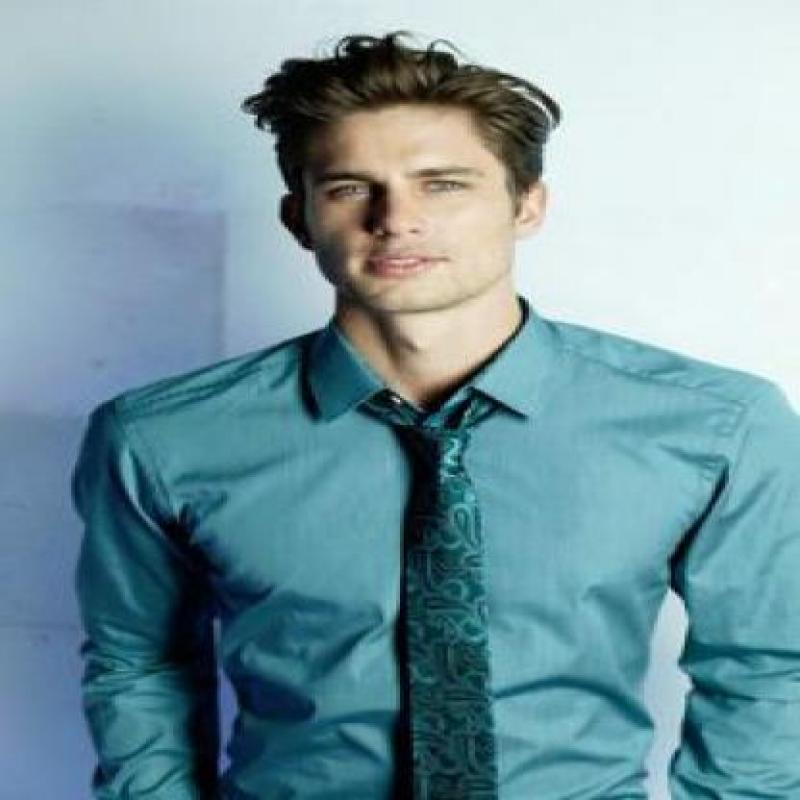long sleeve shirt: (69, 295, 800, 800)
